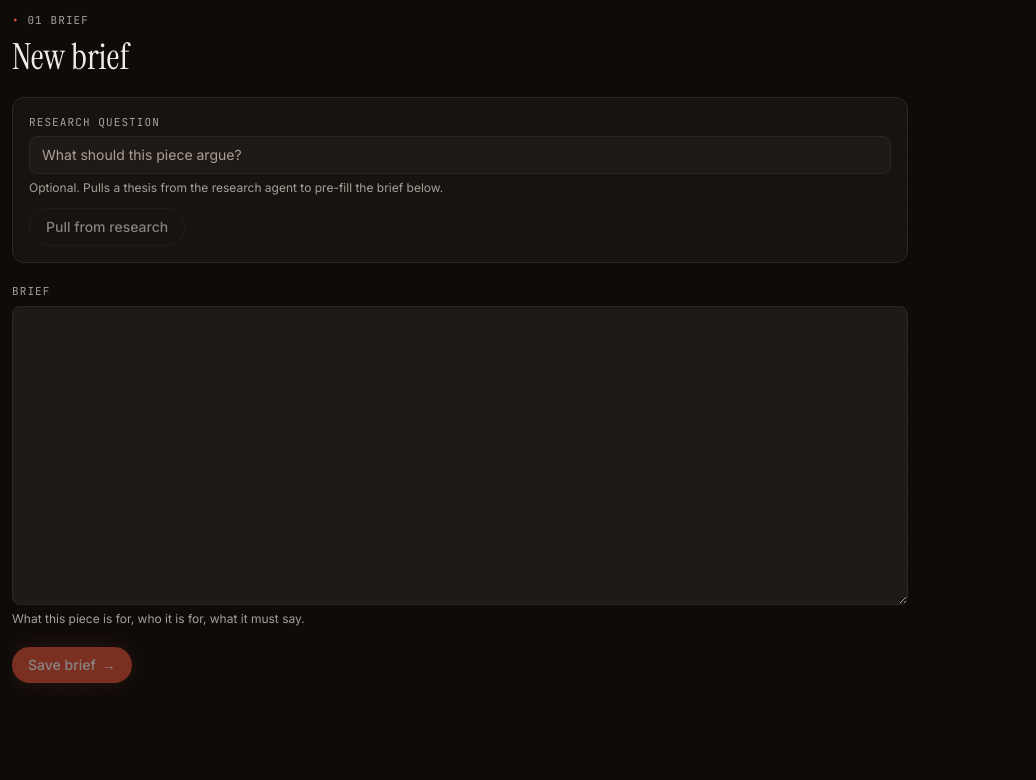
new brief › falls back to manual when no research agent is configured
The image size is (1036, 780).
expect the button "Pull from research" is shown: met, box top-left (29, 208), bottom-right (185, 246)
In the field labelled "Research question": (460, 155) top-left (29, 136), bottom-right (891, 174), type "x"
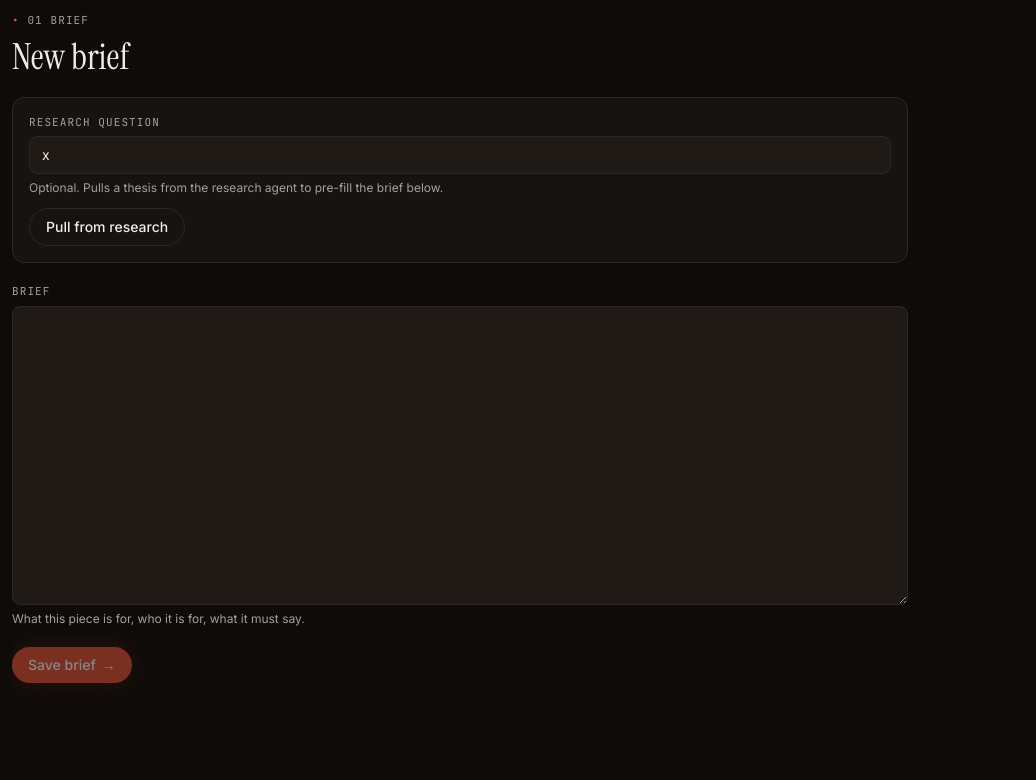
Click the button "Pull from research": (107, 227) top-left (29, 208), bottom-right (185, 246)
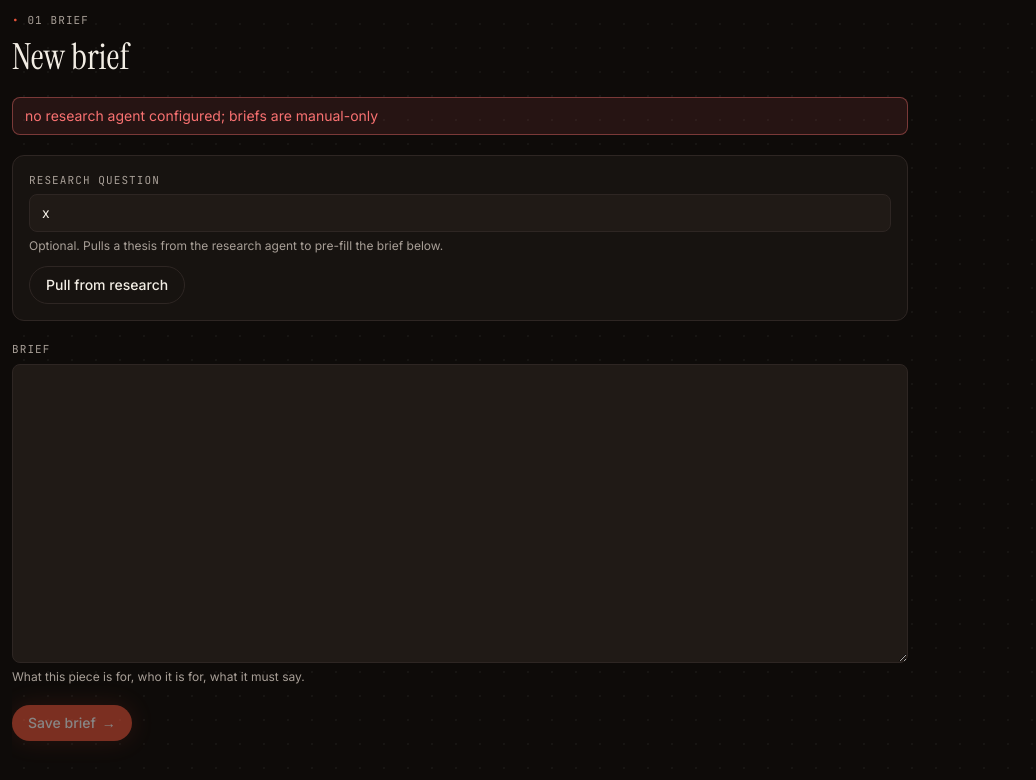
expect the text box labelled "Brief" is enabled: met, box top-left (12, 364), bottom-right (908, 662)
expect the message shows "manual-only": met, box top-left (25, 106), bottom-right (378, 124)
